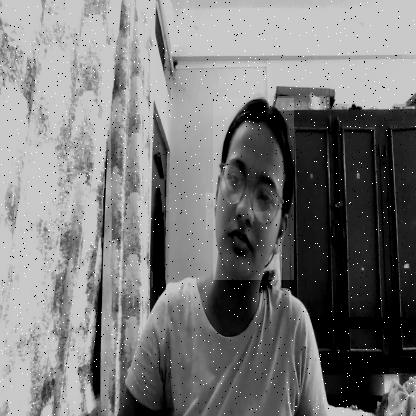Normal: (213, 98, 294, 280)
